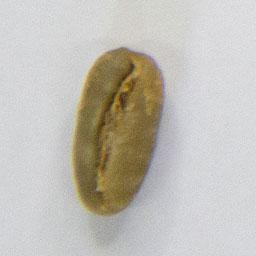longberry: (67, 43, 169, 217)
